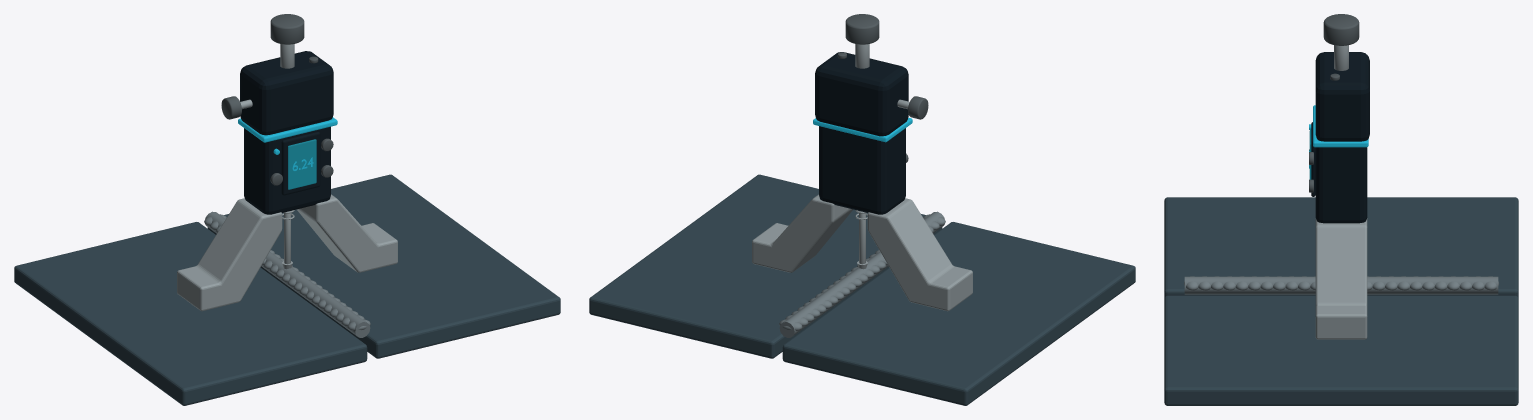
The model's file is wqis-digital-weld-gauge.glb.
3 views of the same model, side by side, from view 1: azimuth 30°, elevation 25°; view 2: azimuth 150°, elevation 25°; view 3: azimuth 270°, elevation 25° (orthographic). The views are drawn at different scales.
Parts seen in each view (by area): view 1: Plate_Left, Plate_Right, Gauge_Foot_Left, Gauge_Body_Upper, Gauge_Foot_Right, Gauge_Body_Lower, Weld_Crown_Base, Weld_Ripples, Display_Screen, Display_Frame, Top_Adjustment_Knob, Gauge_Seam_Band; view 2: Plate_Left, Plate_Right, Gauge_Body_Lower, Gauge_Foot_Left, Gauge_Body_Upper, Gauge_Foot_Right, Weld_Crown_Base, Weld_Ripples, Top_Adjustment_Knob, Gauge_Seam_Band; view 3: Plate_Right, Plate_Left, Gauge_Foot_Right, Gauge_Body_Upper, Gauge_Body_Lower, Weld_Crown_Base, Weld_Ripples, Top_Adjustment_Knob, Gauge_Seam_Band, Top_Stem.
Boxes of the visible parts, x1,y1,x2,y2 form: Plate_Left: (14, 222, 367, 405); Plate_Right: (207, 174, 560, 358); Gauge_Foot_Left: (177, 198, 282, 311); Gauge_Body_Upper: (240, 51, 333, 135); Gauge_Foot_Right: (296, 194, 397, 272); Gauge_Body_Lower: (244, 126, 330, 214); Weld_Crown_Base: (205, 211, 370, 337); Weld_Ripples: (204, 214, 370, 330); Display_Screen: (288, 139, 316, 189); Display_Frame: (281, 131, 320, 195); Top_Adjustment_Knob: (270, 14, 304, 44); Gauge_Seam_Band: (238, 117, 337, 142); Plate_Left: (782, 222, 1135, 405); Plate_Right: (589, 174, 942, 358); Gauge_Body_Lower: (819, 126, 905, 214); Gauge_Foot_Left: (867, 198, 972, 311); Gauge_Body_Upper: (815, 52, 908, 136); Gauge_Foot_Right: (752, 194, 853, 272); Weld_Crown_Base: (779, 211, 944, 337); Weld_Ripples: (779, 214, 945, 330); Top_Adjustment_Knob: (845, 14, 879, 44); Gauge_Seam_Band: (813, 117, 912, 142); Plate_Right: (1164, 295, 1518, 405); Plate_Left: (1164, 197, 1518, 298); Gauge_Foot_Right: (1315, 218, 1367, 339); Gauge_Body_Upper: (1315, 52, 1369, 141); Gauge_Body_Lower: (1315, 147, 1367, 223); Weld_Crown_Base: (1184, 276, 1498, 294); Weld_Ripples: (1184, 276, 1498, 290); Top_Adjustment_Knob: (1323, 14, 1359, 45); Gauge_Seam_Band: (1313, 105, 1368, 147); Top_Stem: (1334, 45, 1348, 70).
Bounding box in the file's own units: 0.36 × 0.253 × 0.28.
